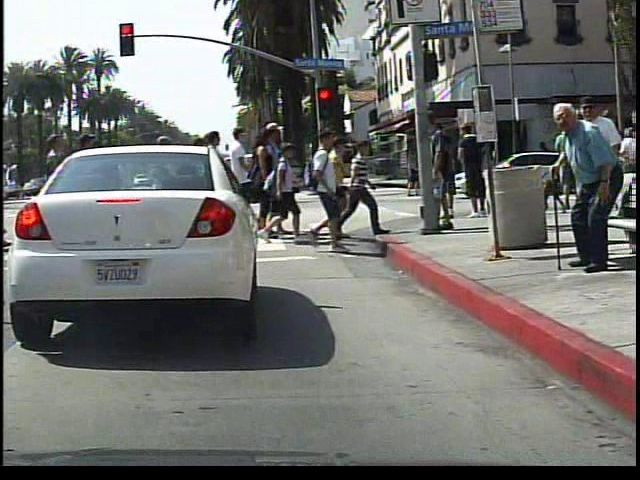person: (534, 107, 627, 281), (398, 138, 417, 199)
